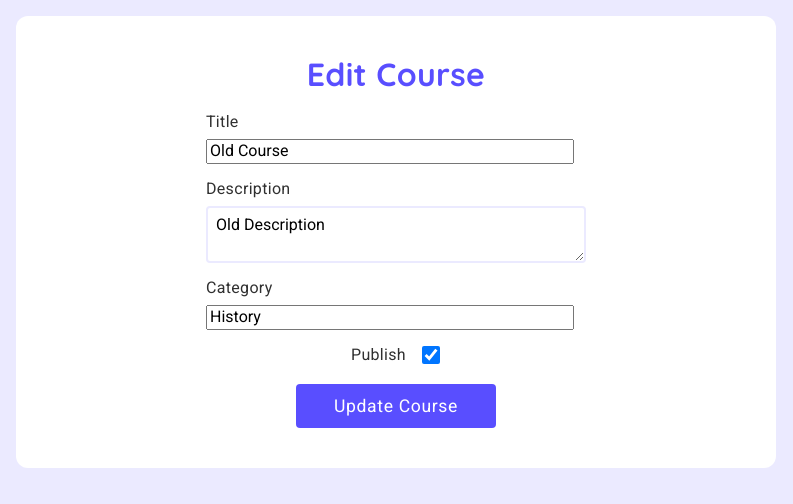
Test: CourseForm Component › handles successful course update
The image size is (793, 504).
Replace the text in the field labelled "Title" with "Updated Course" at (390, 151), box [206, 139, 574, 164]
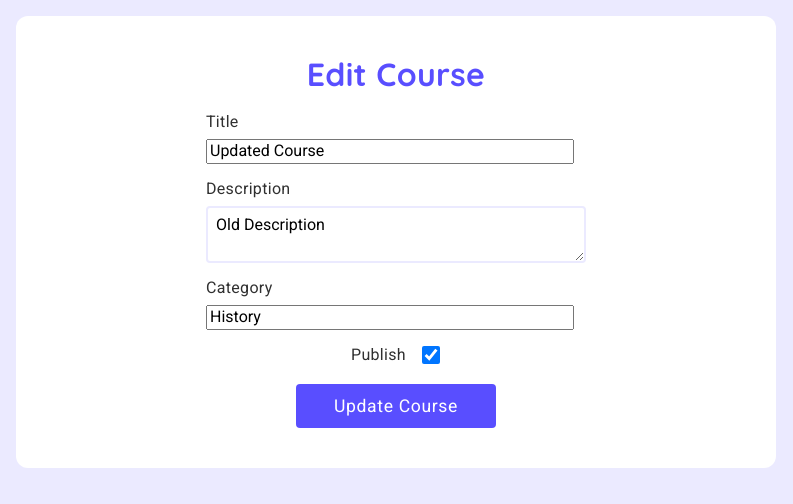
Replace the text in the text box labelled "Description" with "Updated Description" at (396, 234), box [206, 206, 586, 263]
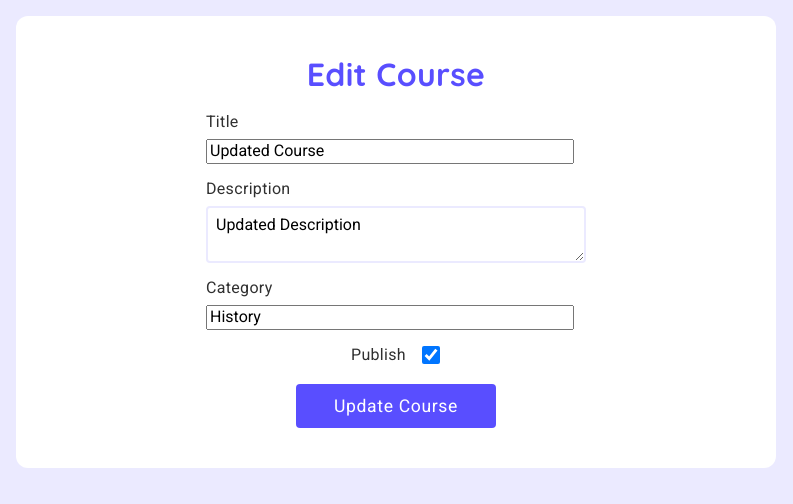
Replace the text in the field labelled "Category" with "Math" at (390, 317), box [206, 305, 574, 330]
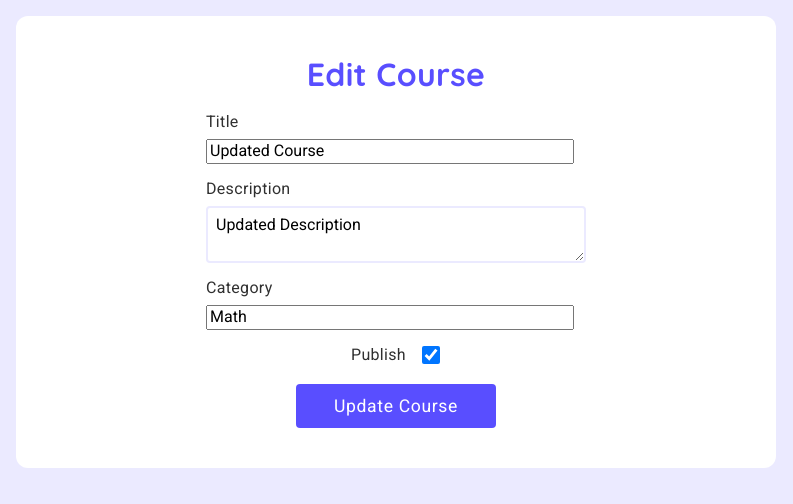
Click the checkbox labelled "Publish" at (431, 355), box [421, 346, 441, 364]
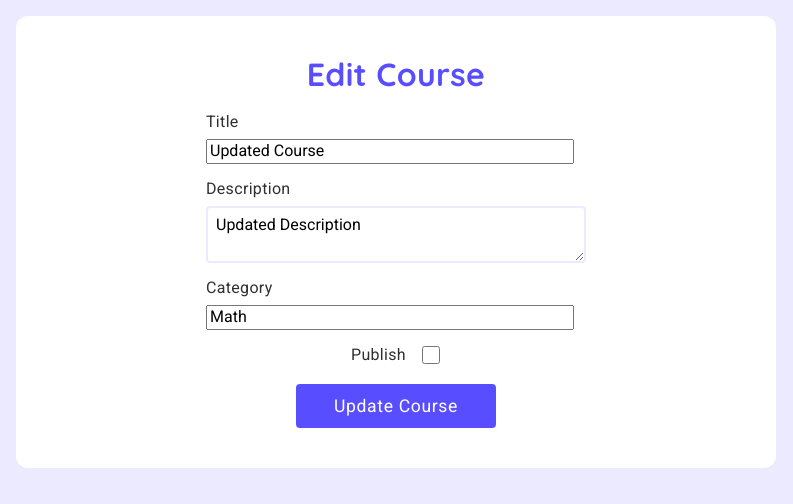
Click the button "Update Course" at (396, 406), box [296, 384, 496, 428]
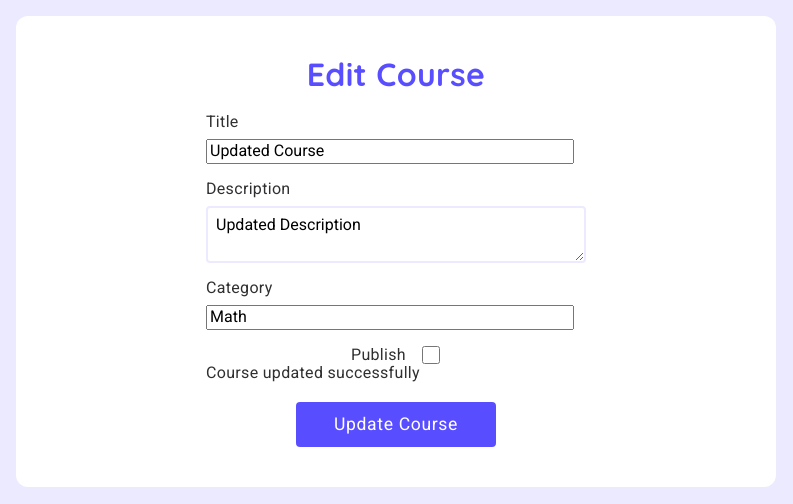
Expected: the text "Course updated successfully" is shown, [206, 363, 420, 382]
